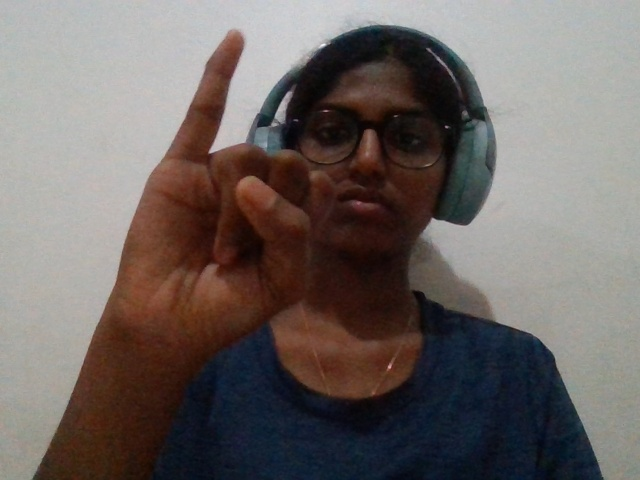I: (82, 8, 343, 400)
